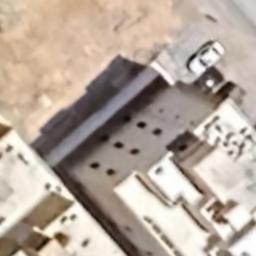sedan: (188, 40, 226, 77)
